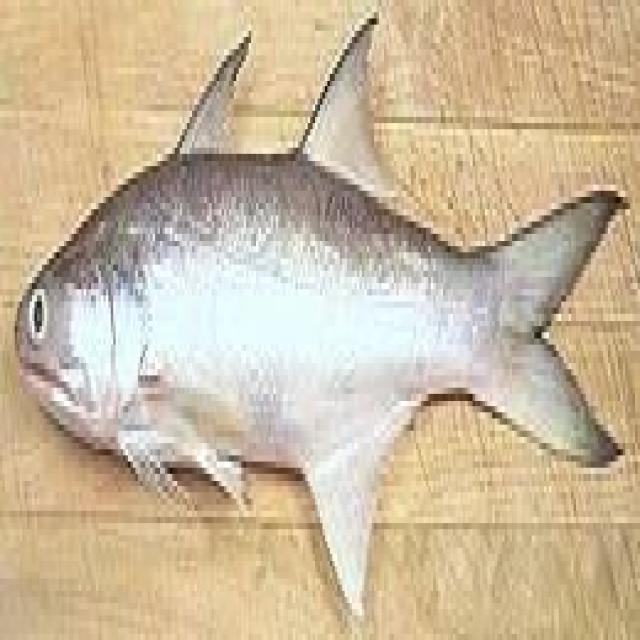Fourfinger-Threadfin: (5, 14, 640, 598)
